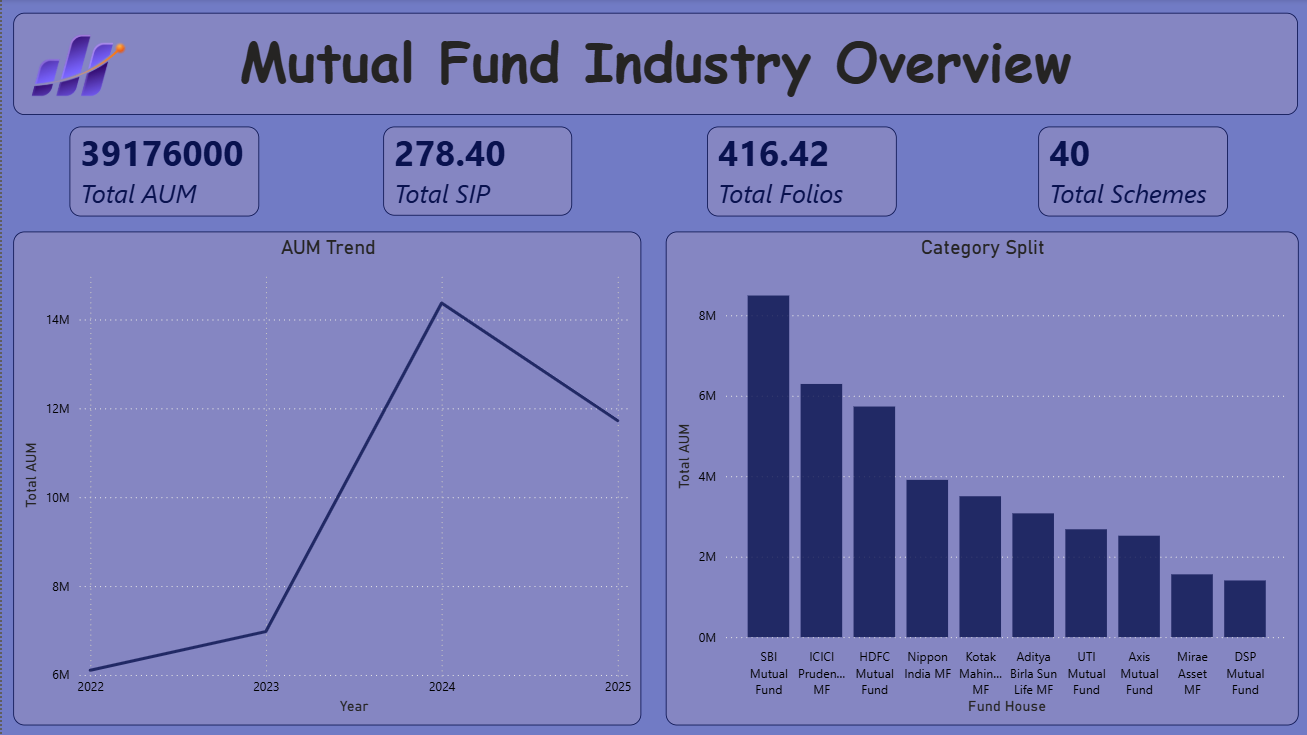

The dashboard page shown, as its layout file describes it:
{"tool":"powerbi","page":{"name":"Industry Overview","canvas":[1280,720],"ordinal":0},"visuals":[{"type":"multiRowCard","fields":{"Values":["03_aum_by_fund_house.Total_AUM"]},"box":[65.9,124.9,185.2,87.8],"z":0},{"type":"multiRowCard","fields":{"Values":["04_monthly_sip_inflows.Total SIP"]},"box":[372.5,125,185,87.5],"z":1000},{"type":"multiRowCard","fields":{"Values":["06_industry_folio_count.Total Folios"]},"box":[690.2,124.9,185.2,87.8],"z":2000},{"type":"multiRowCard","fields":{"Values":["01_fund_master.Total Schemes"]},"box":[1014.1,124.9,185.2,87.8],"z":3000},{"type":"textbox","box":[11,13.7,1257,100.2],"z":4000},{"type":"lineChart","title":"AUM Trend","fields":{"Category":["date.Date.Variation.Date Hierarchy.Year","date.Date.Variation.Date Hierarchy.Quarter","date.Date.Variation.Date Hierarchy.Month","date.Date.Variation.Date Hierarchy.Day"],"Y":["03_aum_by_fund_house.Total AUM"]},"box":[11,227.8,614.8,483],"z":5000},{"type":"columnChart","title":"Category Split","fields":{"Category":["03_aum_by_fund_house.fund_house"],"Y":["03_aum_by_fund_house.Total AUM"]},"box":[649.1,227.8,618.9,483],"z":6000},{"type":"image","box":[11,4.9,123.5,119.8],"z":6001}]}

Visuals, with their boxes in screenshot pixels (x1, y1, x2, y2), scaled from the page's 1280x720 canvas onto the 1307x735 screenshot:
multiRowCard - 03_aum_by_fund_house.Total_AUM: (left=67, top=128, right=256, bottom=217)
multiRowCard - 04_monthly_sip_inflows.Total SIP: (left=380, top=128, right=569, bottom=217)
multiRowCard - 06_industry_folio_count.Total Folios: (left=705, top=128, right=894, bottom=217)
multiRowCard - 01_fund_master.Total Schemes: (left=1035, top=128, right=1225, bottom=217)
textbox: (left=11, top=14, right=1295, bottom=116)
"AUM Trend" lineChart: (left=11, top=233, right=639, bottom=726)
"Category Split" columnChart: (left=663, top=233, right=1295, bottom=726)
image: (left=11, top=5, right=137, bottom=127)
